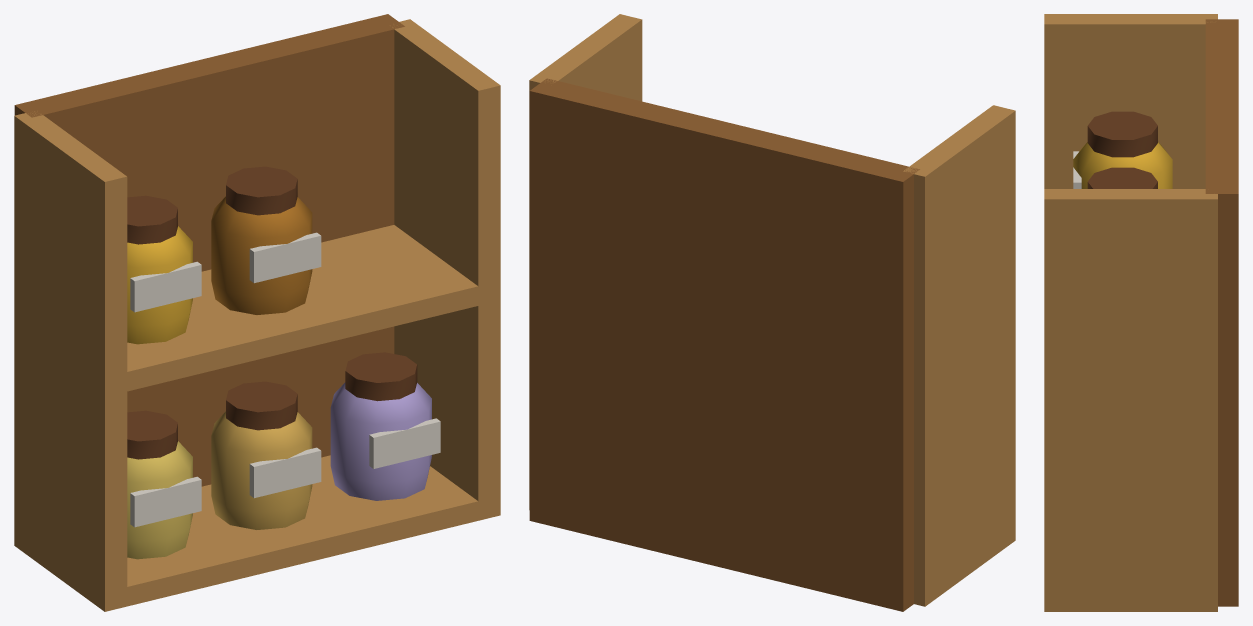
Rendered from honey_jars_display.glb.
The picture shows the model from 3 angles, left to right: view 1: azimuth 30°, elevation 25°; view 2: azimuth 150°, elevation 25°; view 3: azimuth 270°, elevation 25°; orthographic projection. The views are drawn at different scales.
Parts seen in each view (by area): view 1: decor-honey_jars_display; view 2: decor-honey_jars_display; view 3: decor-honey_jars_display.
Part boxes in pixels (x1,y1,x2,y2): decor-honey_jars_display: (14, 14, 500, 611); decor-honey_jars_display: (529, 14, 1015, 611); decor-honey_jars_display: (1044, 14, 1238, 611).
Size of the model in its own units: 1.06 by 1.1 by 0.47.
